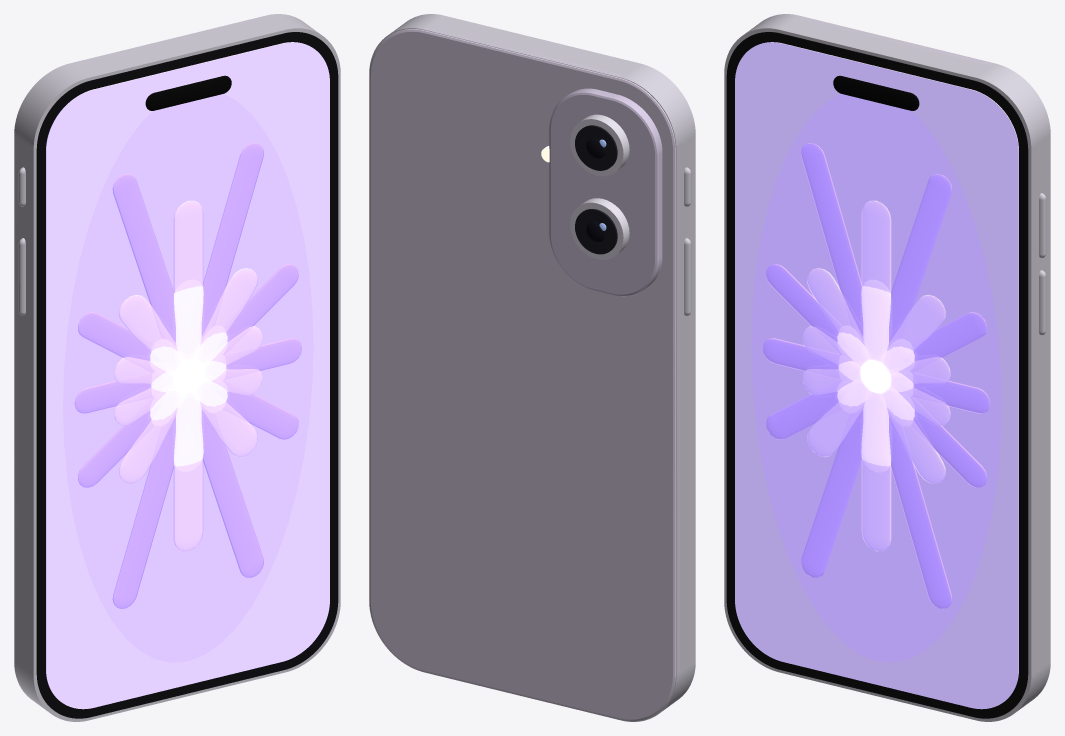
The model's file is iphone.glb.
3 renders of one model, left to right at view 1: azimuth 30°, elevation 25°; view 2: azimuth 150°, elevation 25°; view 3: azimuth 330°, elevation 25°, orthographic.
Size of the model in its own units: 0.516 by 1.01 by 0.1043.
